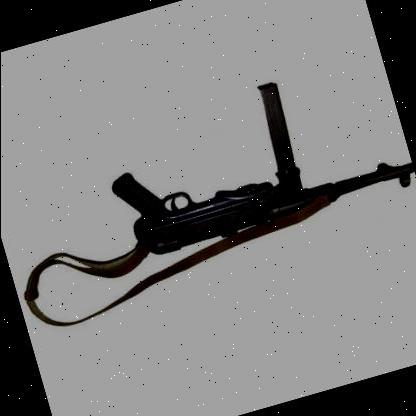rifle: (87, 50, 416, 297)
